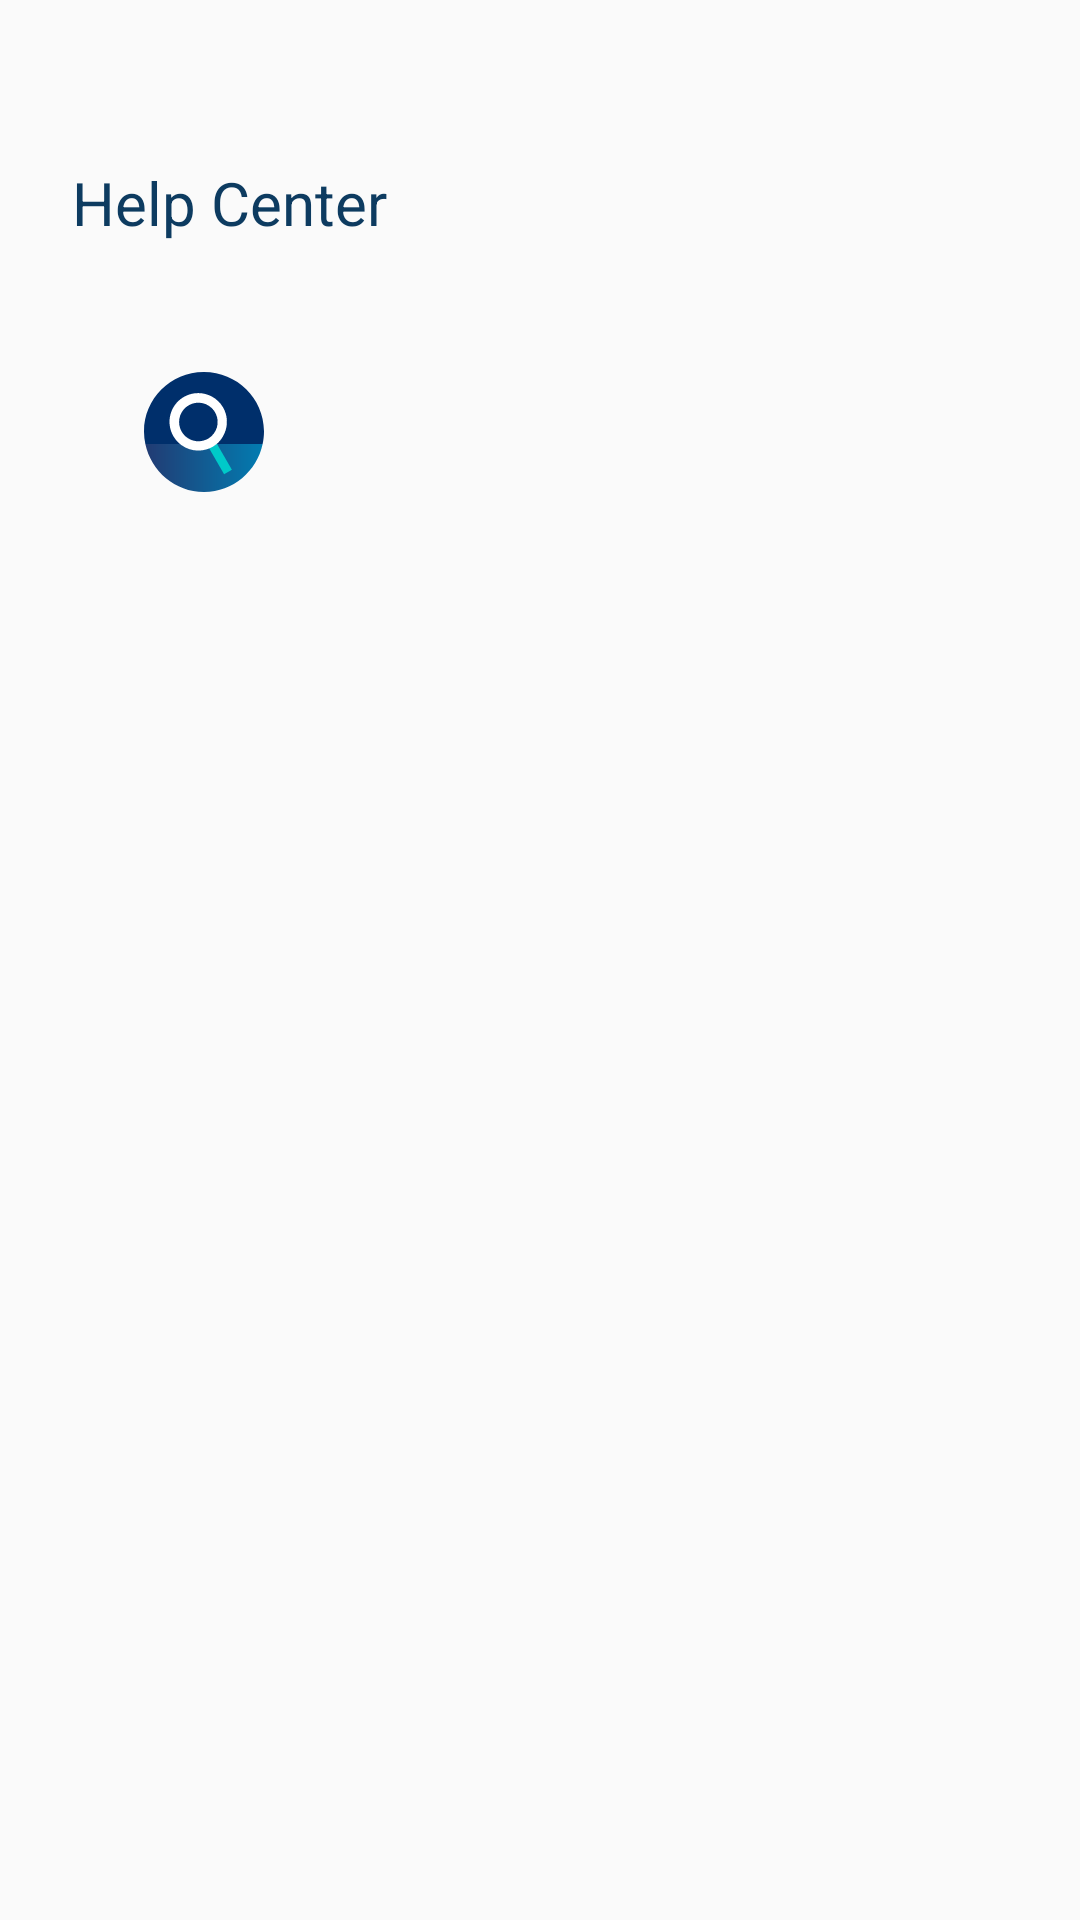

Point at icon controls on the screen. Image size 1080 x 1920, points as [x,y].
search faq: [204,432]
